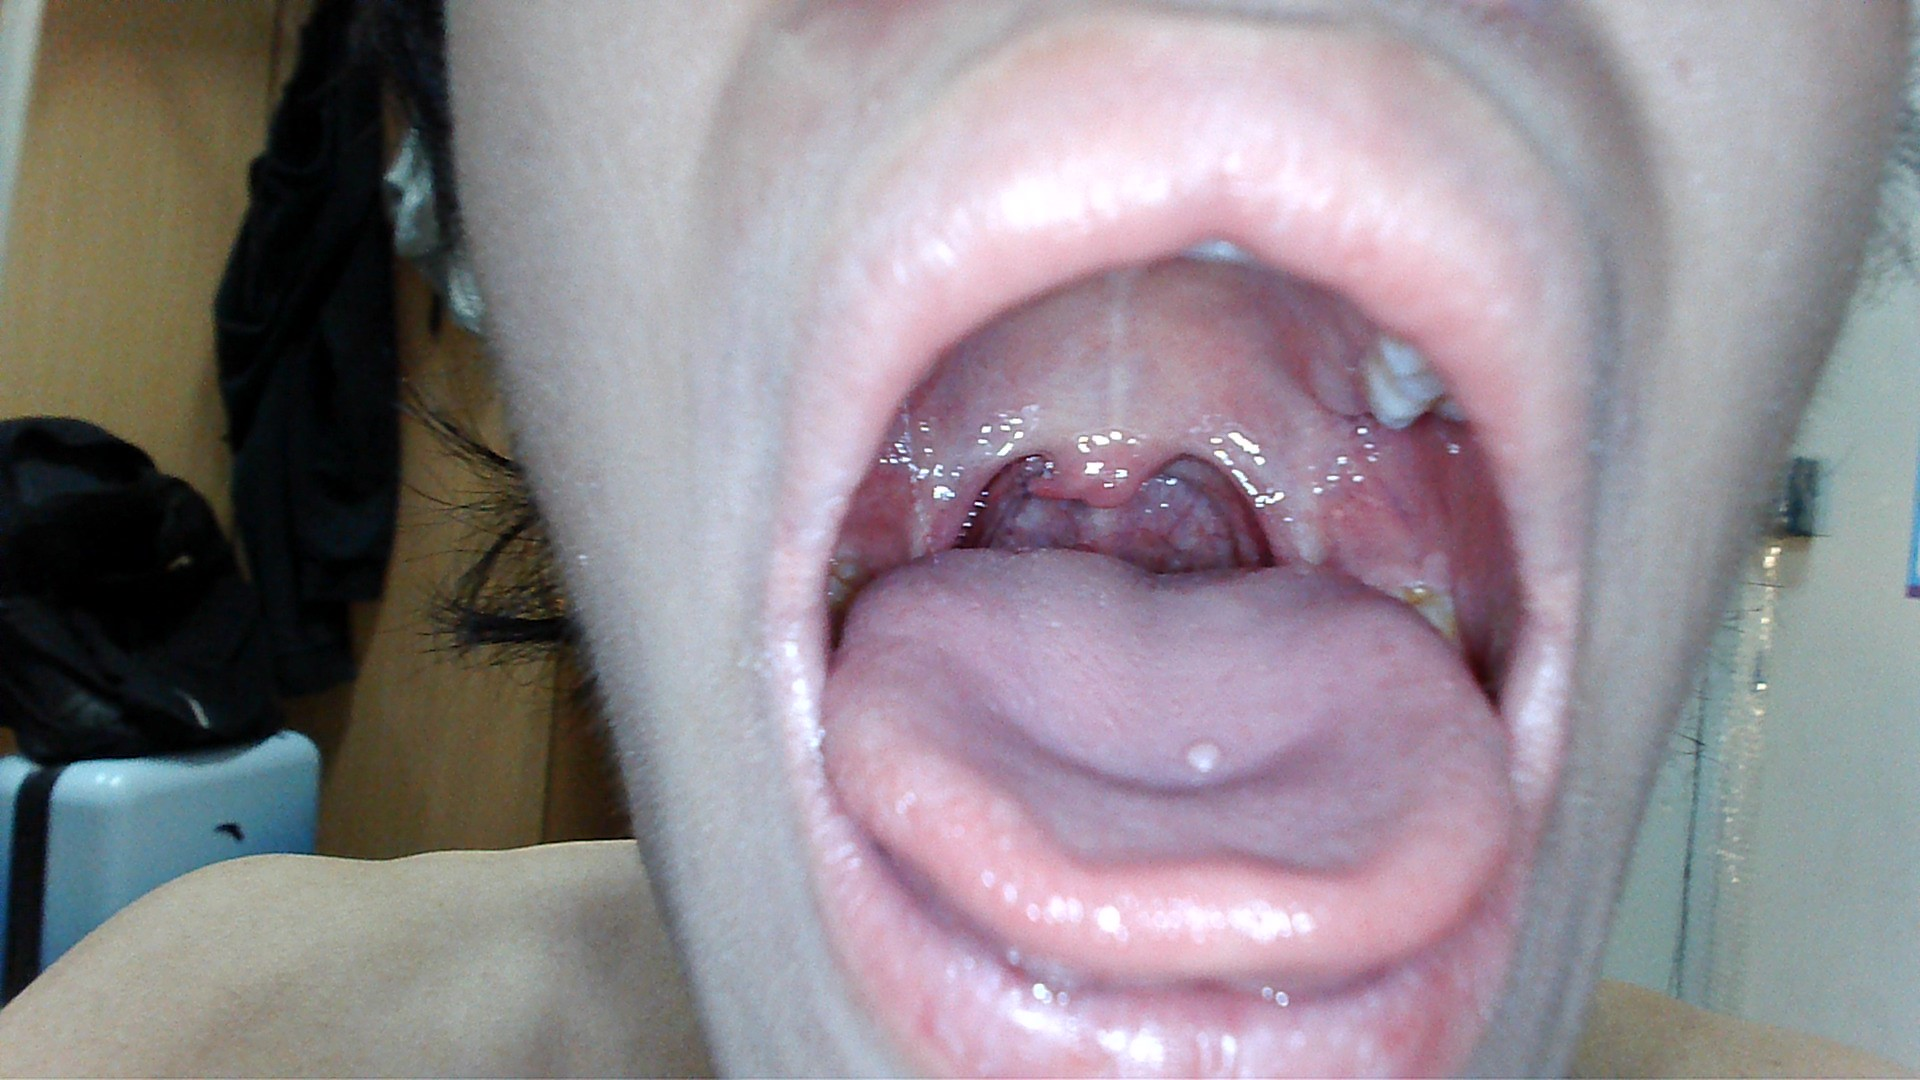throat: (1215, 407, 1323, 568), (922, 415, 1010, 545)
